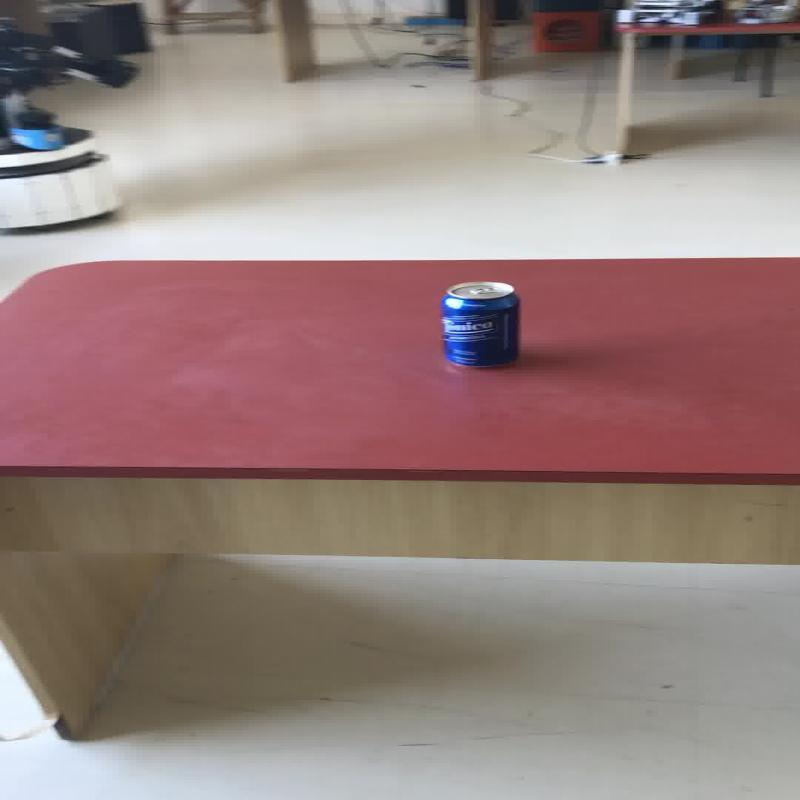tonic: (438, 280, 519, 368)
